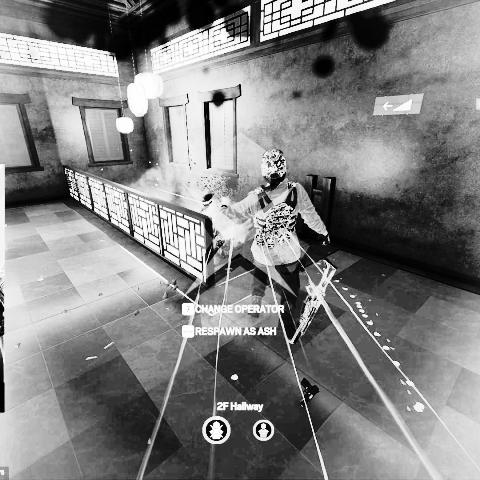Character: (221, 148, 332, 342), (198, 193, 235, 262)
Head: (260, 148, 289, 186), (201, 195, 214, 210)
